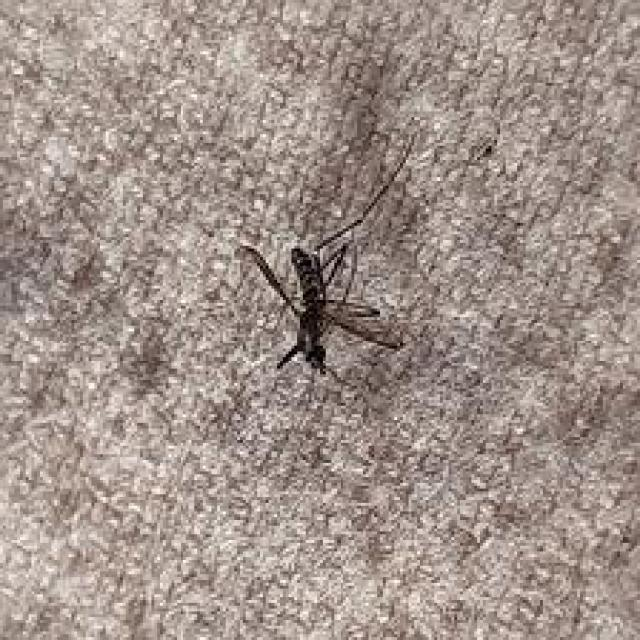Aedes albopictus: (233, 130, 418, 384)
